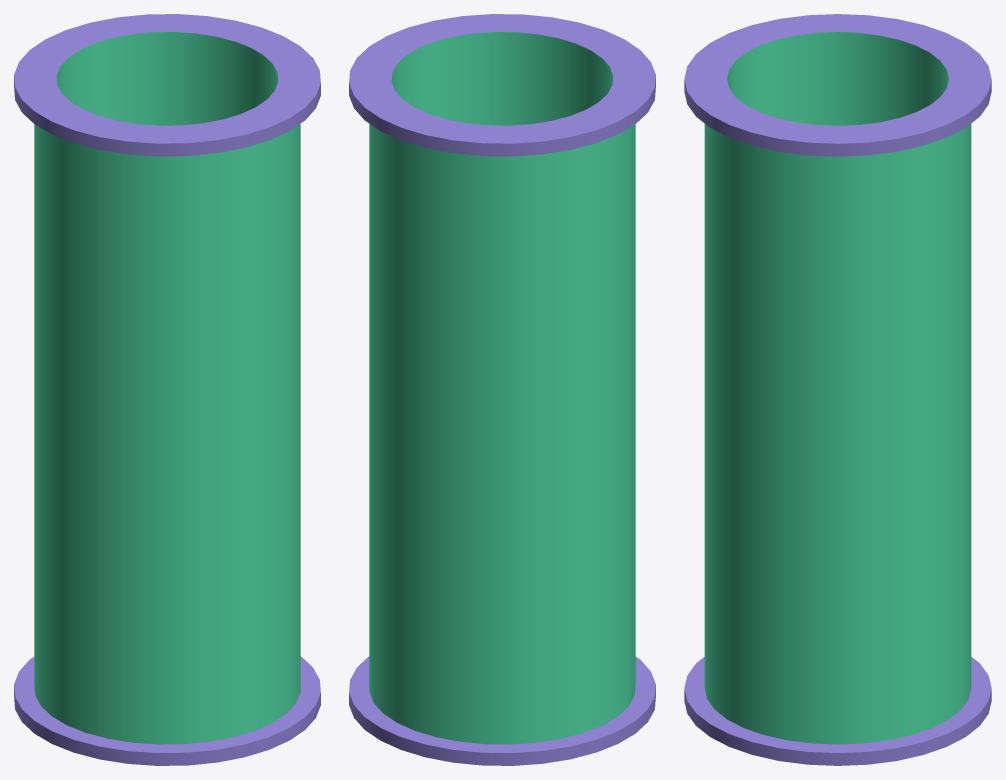
Rendered from PipePlaceholderStraight.fbx.
3 views of the same model, side by side, from view 1: azimuth 30°, elevation 25°; view 2: azimuth 150°, elevation 25°; view 3: azimuth 270°, elevation 25° (orthographic).
Parts seen in each view (by area): view 1: DistributionPipeStraight; view 2: DistributionPipeStraight; view 3: DistributionPipeStraight.
Part boxes in pixels (x1=…): DistributionPipeStraight: x1=14, y1=14, x2=320, y2=765; DistributionPipeStraight: x1=349, y1=14, x2=655, y2=765; DistributionPipeStraight: x1=684, y1=14, x2=991, y2=765.
Bounding box in the file's own units: 179 × 400 × 179.
